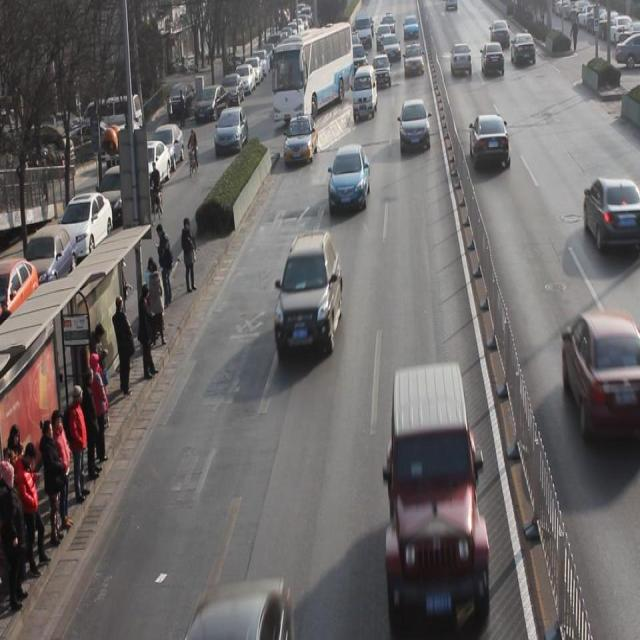car: (385, 366, 491, 624), (565, 310, 640, 443), (273, 230, 344, 361), (584, 173, 640, 254), (328, 144, 371, 214), (470, 112, 511, 174), (285, 112, 320, 167), (399, 96, 431, 154), (481, 42, 506, 78), (513, 31, 536, 70), (450, 41, 472, 80), (348, 42, 369, 82), (372, 52, 393, 90), (404, 43, 425, 78), (490, 19, 510, 52)
truck: (352, 64, 379, 124)
van: (272, 23, 354, 123)
